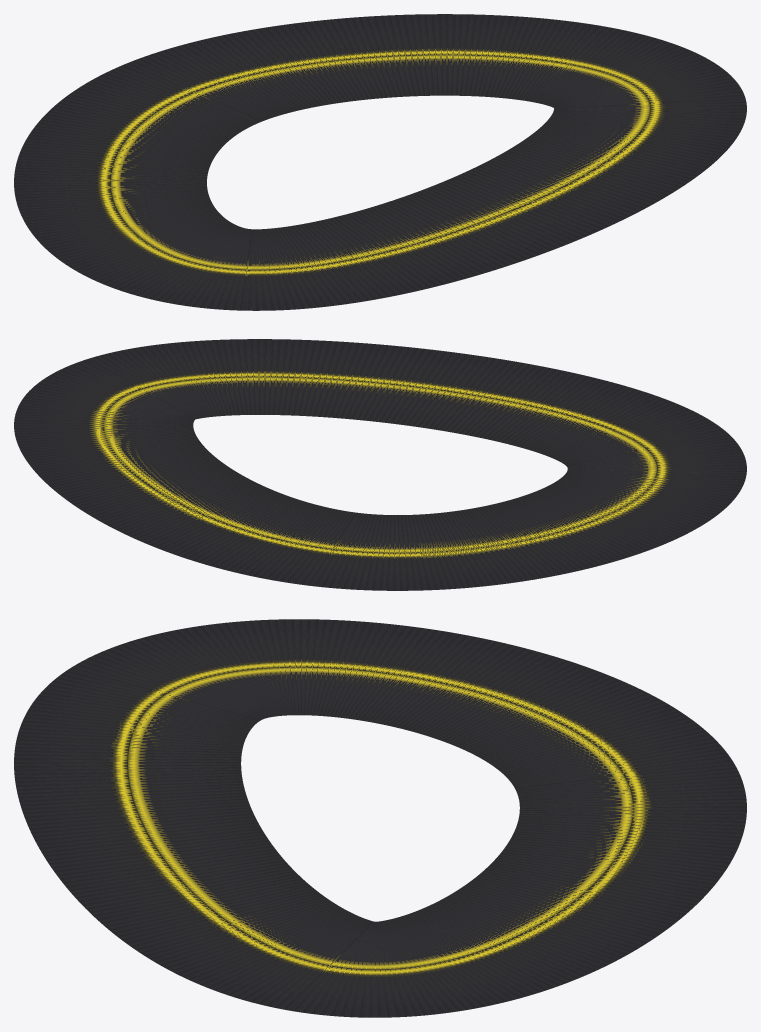
3 views of the same model, one above another, from view 1: azimuth 30°, elevation 25°; view 2: azimuth 150°, elevation 25°; view 3: azimuth 270°, elevation 25° (orthographic). The views are drawn at different scales.
Parts seen in each view (by area): view 1: road; view 2: road; view 3: road.
Part boxes in pixels (left/top/right/bottom): road: left=14, top=14, right=746, bottom=310; road: left=14, top=339, right=746, bottom=590; road: left=14, top=619, right=746, bottom=1017.
Bounding box in the file's own units: 0.7472 × 0 × 0.5808.
